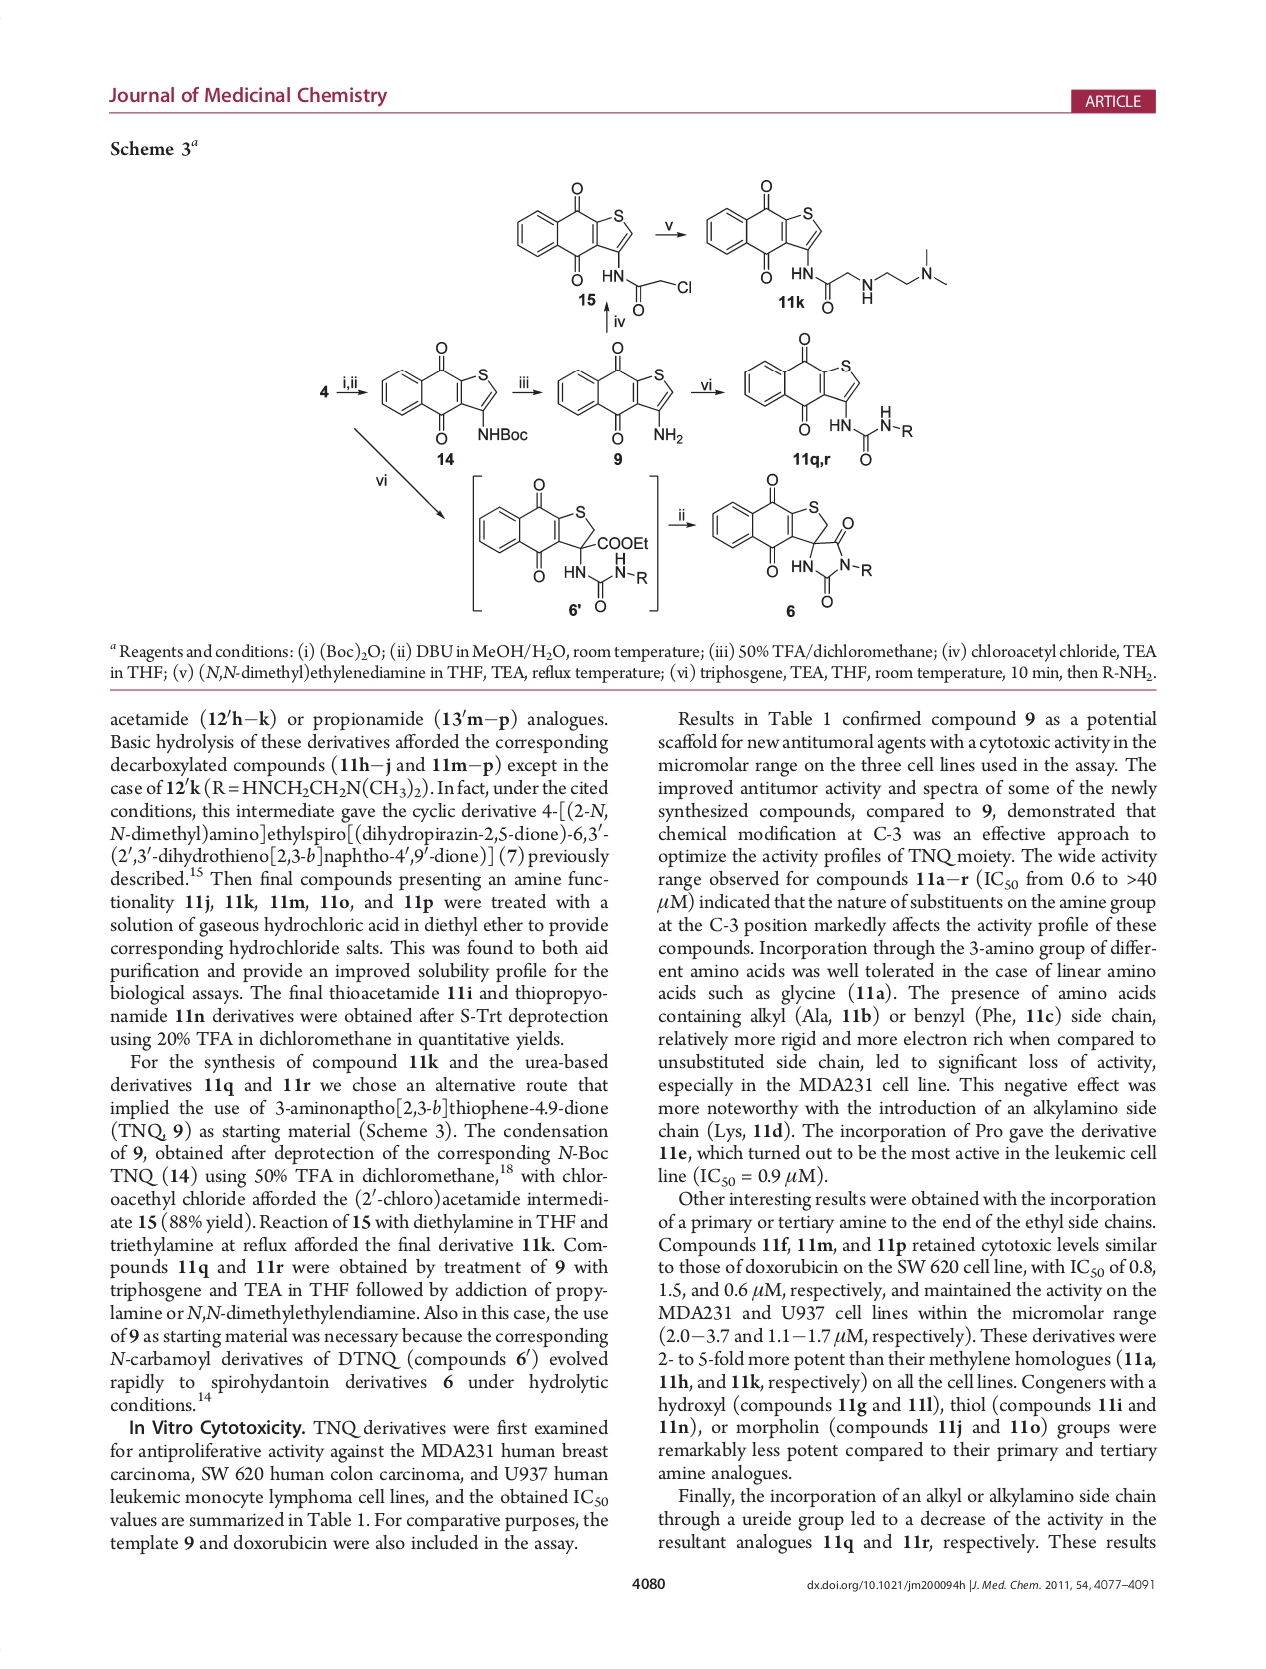exist_molecular: (703, 178, 949, 315), (513, 180, 694, 318), (739, 330, 918, 468), (477, 475, 652, 614), (707, 471, 874, 608), (376, 338, 532, 448), (553, 338, 688, 448)
